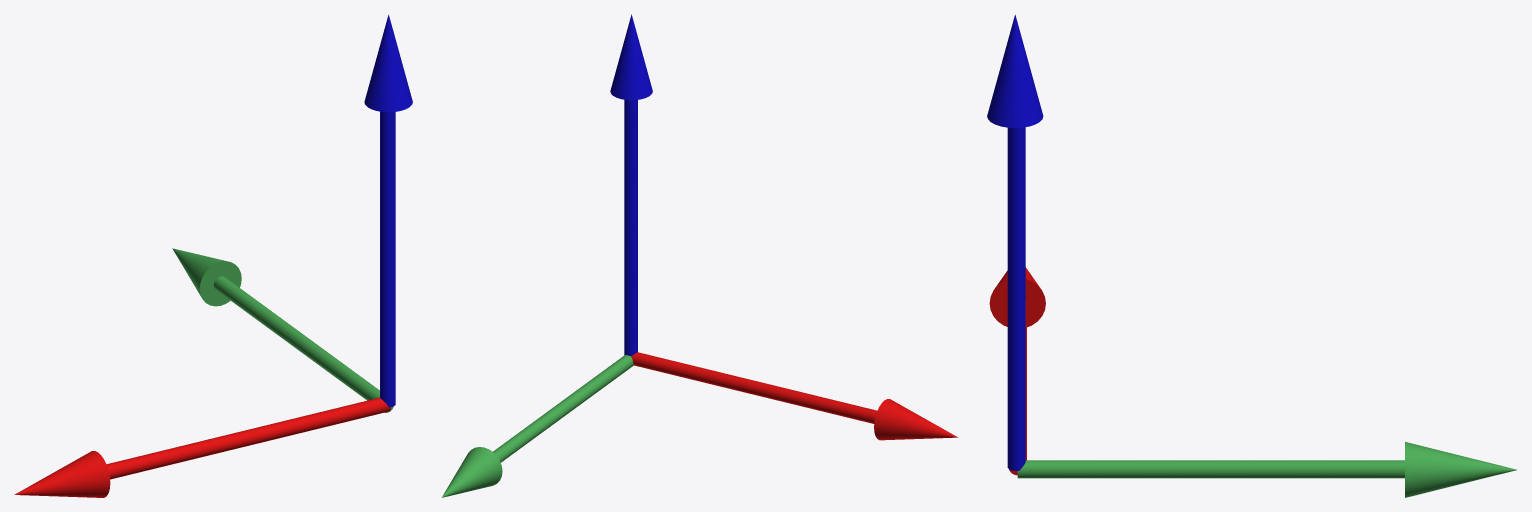
Rendered from Axis.fbx.
3 renders of one model, left to right at view 1: azimuth 30°, elevation 25°; view 2: azimuth 150°, elevation 25°; view 3: azimuth 270°, elevation 25°, orthographic. The views are drawn at different scales.
Visible parts, largest first — view 1: Cilindro004, Cilindro002, Cilindro003, Cone002, Cone004, Cone003; view 2: Cilindro004, Cilindro002, Cilindro003, Cone002, Cone004, Cone003; view 3: Cilindro003, Cilindro002, Cone002, Cone003, Cone004.
Boxes of the visible parts, x1,y1,x2,y2 form: Cilindro004: (106,397,391,479); Cilindro002: (380,111,395,407); Cilindro003: (213,276,393,412); Cone002: (364,14,412,112); Cone004: (14,451,110,497); Cone003: (172,248,241,306); Cilindro004: (631,352,876,423); Cilindro002: (624,99,637,356); Cilindro003: (493,355,633,462); Cone002: (610,14,652,100); Cone004: (874,399,957,440); Cone003: (441,447,502,497); Cilindro003: (1017,460,1404,478); Cilindro002: (1007,127,1025,470); Cone002: (987,14,1043,127); Cone003: (1405,442,1517,497); Cone004: (989,267,1045,327).
Size of the model in its own units: 4.69 by 4.71 by 4.71.
